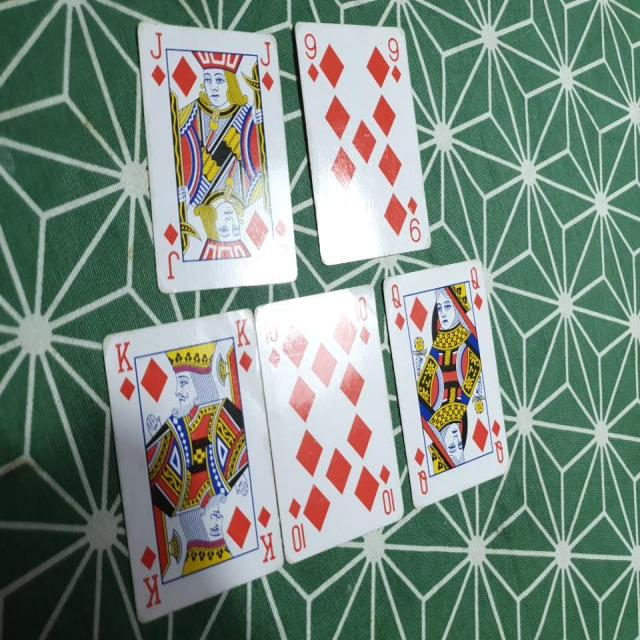10 Diamonds: (252, 282, 405, 564)
9 Diamonds: (292, 20, 434, 264)
J Diamonds: (136, 18, 300, 293)
K Diamonds: (101, 305, 285, 625)
Q Diamonds: (381, 252, 513, 509)
